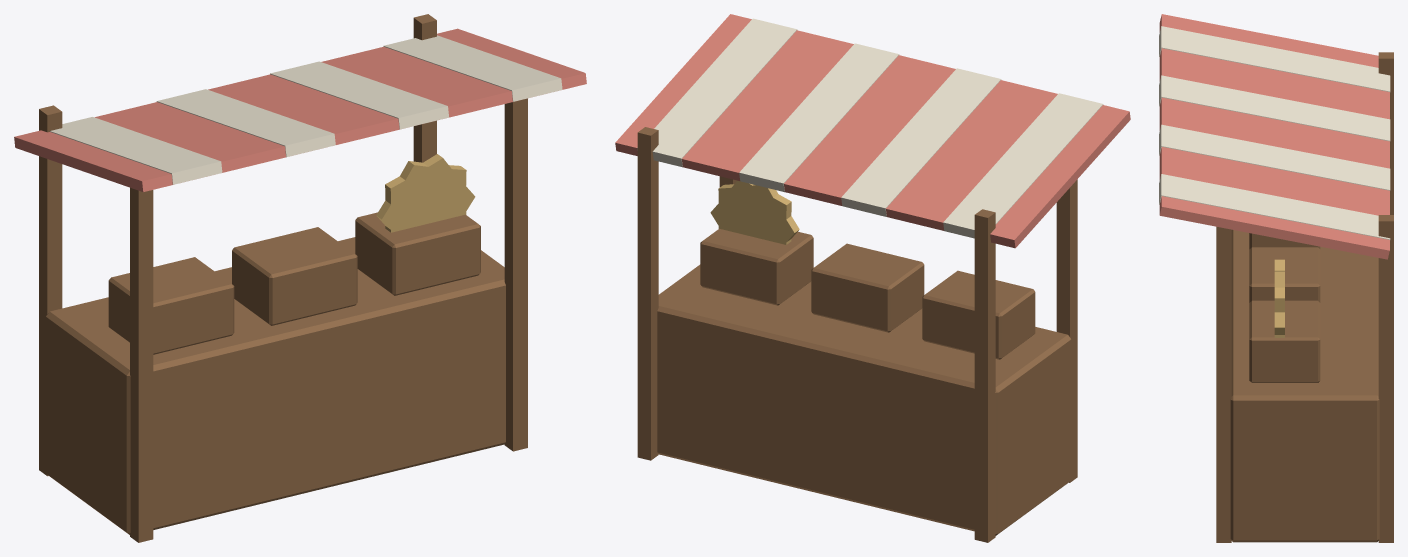
File: Cite_Etal.fbx
The picture shows the model from 3 angles, left to right: view 1: azimuth 30°, elevation 25°; view 2: azimuth 150°, elevation 25°; view 3: azimuth 270°, elevation 25°; orthographic projection. The views are drawn at different scales.
Visible parts, largest first — view 1: Cite_Etal_Bois, Cite_Etal_Toile, Cite_Etal_Enduit, Cite_Etal_Laiton; view 2: Cite_Etal_Bois, Cite_Etal_Toile, Cite_Etal_Enduit, Cite_Etal_Laiton; view 3: Cite_Etal_Bois, Cite_Etal_Toile, Cite_Etal_Enduit, Cite_Etal_Laiton.
Part boxes in pixels (<box>): Cite_Etal_Bois: <box>39,14,527,542</box>; Cite_Etal_Toile: <box>14,28,586,192</box>; Cite_Etal_Enduit: <box>50,35,562,184</box>; Cite_Etal_Laiton: <box>376,154,475,232</box>; Cite_Etal_Bois: <box>637,127,1077,542</box>; Cite_Etal_Toile: <box>615,14,1130,248</box>; Cite_Etal_Enduit: <box>637,18,1103,238</box>; Cite_Etal_Laiton: <box>710,180,799,244</box>; Cite_Etal_Bois: <box>1216,52,1393,542</box>; Cite_Etal_Toile: <box>1159,14,1389,259</box>; Cite_Etal_Enduit: <box>1159,26,1390,239</box>; Cite_Etal_Laiton: <box>1274,259,1284,337</box>.
Size of the model in its own units: 9 by 7.59 by 4.63.
